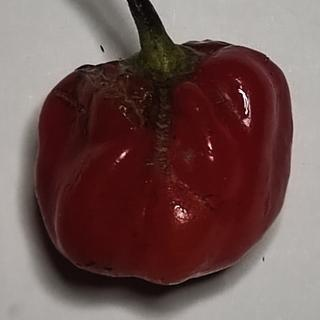Defect: (64, 41, 208, 131)
